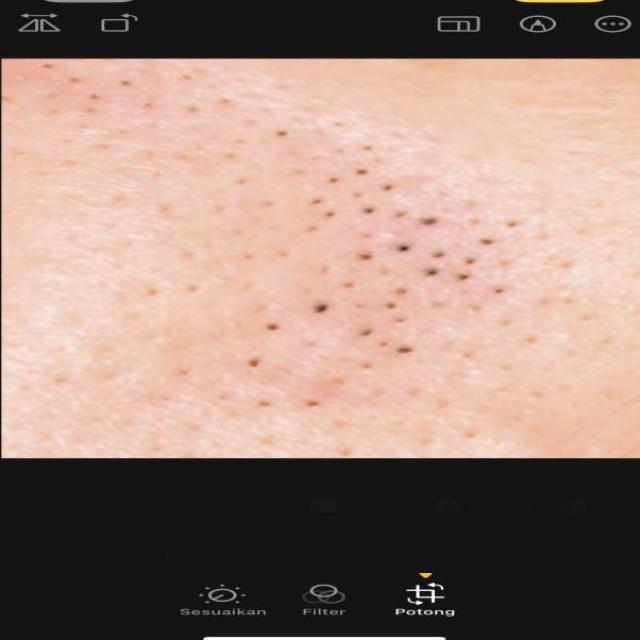blackhead: (160, 106, 548, 450)
